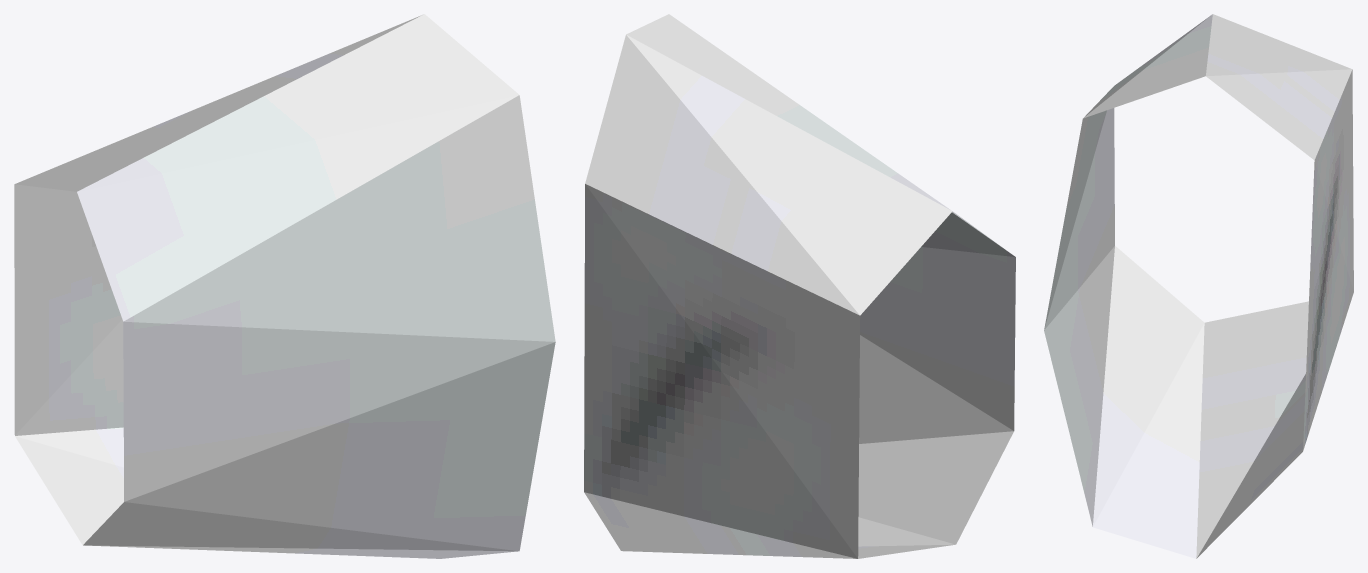
3 views of the same model, side by side, from view 1: azimuth 30°, elevation 25°; view 2: azimuth 150°, elevation 25°; view 3: azimuth 270°, elevation 25° (orthographic). The views are drawn at different scales.
Parts seen in each view (by area): view 1: mesh_E0FFBB4B561198D3; view 2: mesh_E0FFBB4B561198D3; view 3: mesh_E0FFBB4B561198D3.
Part boxes in pixels (x1,y1,x2,y2): mesh_E0FFBB4B561198D3: [14, 14, 555, 558]; mesh_E0FFBB4B561198D3: [584, 14, 1015, 558]; mesh_E0FFBB4B561198D3: [1044, 14, 1353, 558].
Size of the model in its own units: 0.9664 by 1.28 by 0.7513.
